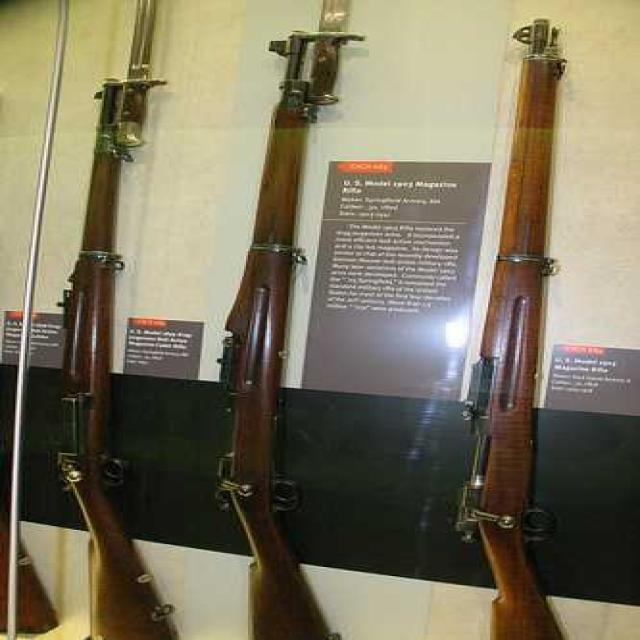heavyweapon: (224, 1, 397, 640), (482, 1, 605, 640), (47, 69, 172, 640)
